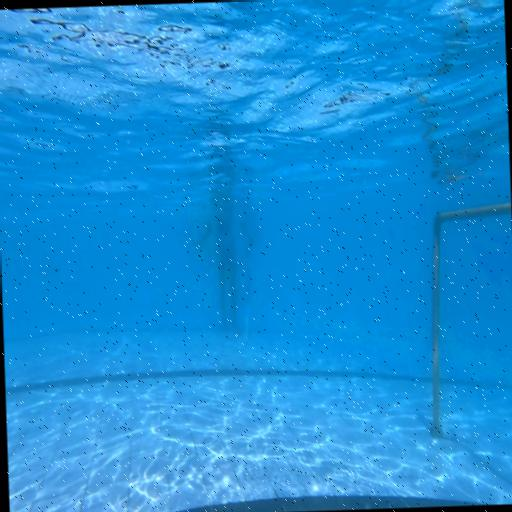gate: (421, 200, 512, 436)
